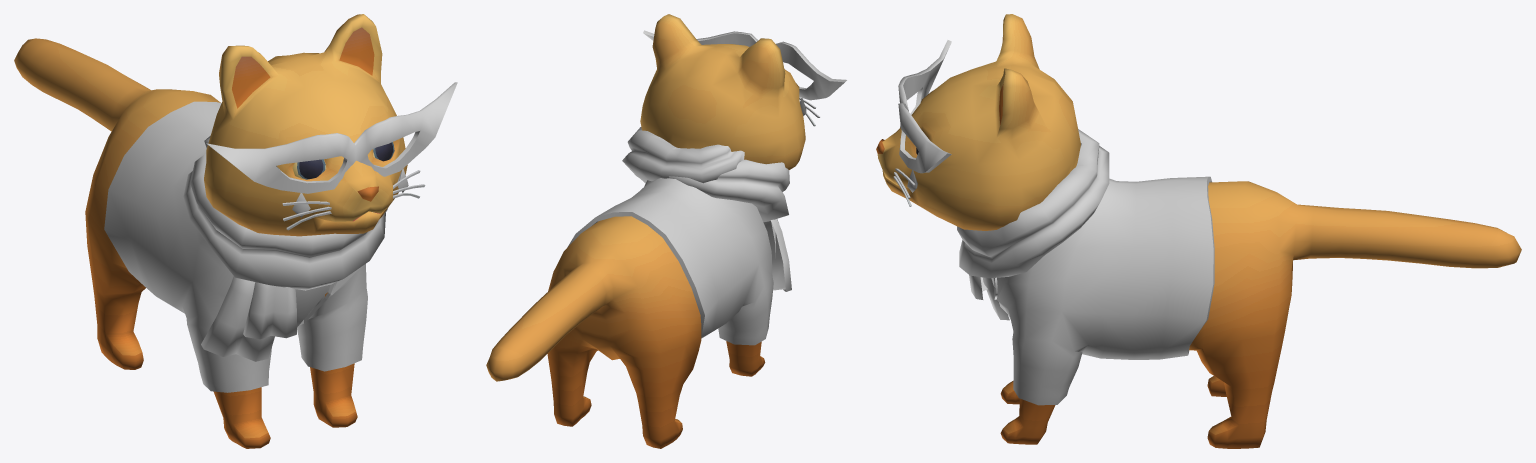
Rendered from Actor Cat.obj.
The picture shows the model from 3 angles, left to right: view 1: azimuth 30°, elevation 25°; view 2: azimuth 150°, elevation 25°; view 3: azimuth 270°, elevation 25°; orthographic projection. The views are drawn at different scales.
Parts seen in each view (by area): view 1: Clothes, Cat001; view 2: Cat001, Clothes; view 3: Cat001, Clothes.
Part boxes in pixels (<box>): Clothes: <box>104,82,457,392</box>; Cat001: <box>14,14,425,448</box>; Cat001: <box>486,14,819,448</box>; Clothes: <box>567,30,846,345</box>; Cat001: <box>876,14,1521,448</box>; Clothes: <box>898,40,1214,405</box>.
Bounding box in the file's own units: 94.46 × 146 × 227.
